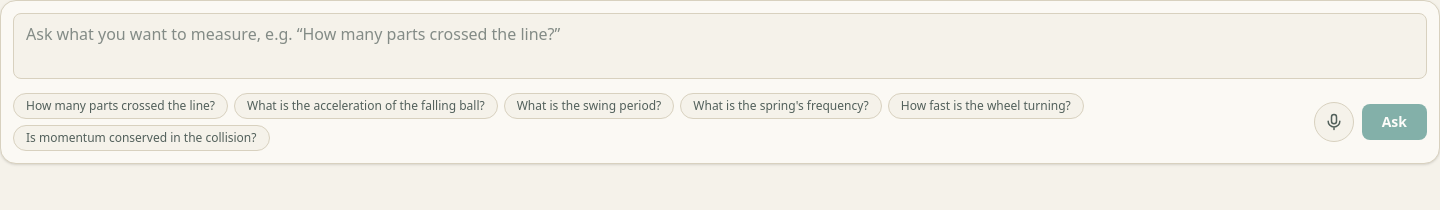
Scenario: QuestionBox › shows the server's refusal (a limit, a bad question) next to the box
The width and height of the screenshot is (1440, 210).
Step 1. Type "swing period" into the text box → (720, 46), box 13,13 -> 1427,79
Then press Enter
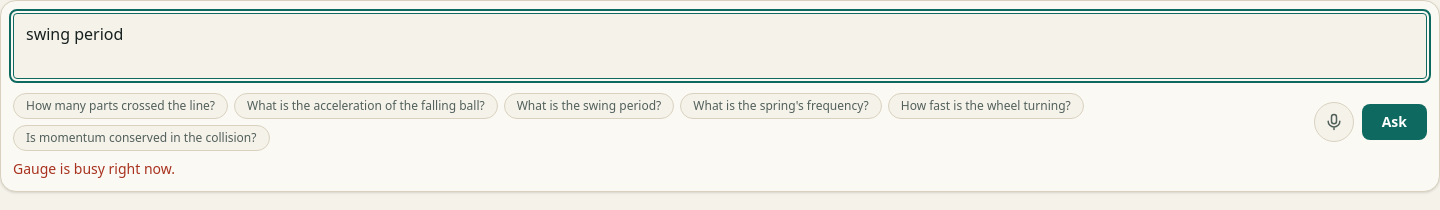
Expected: the message shows "busy", 13,159 -> 175,178
